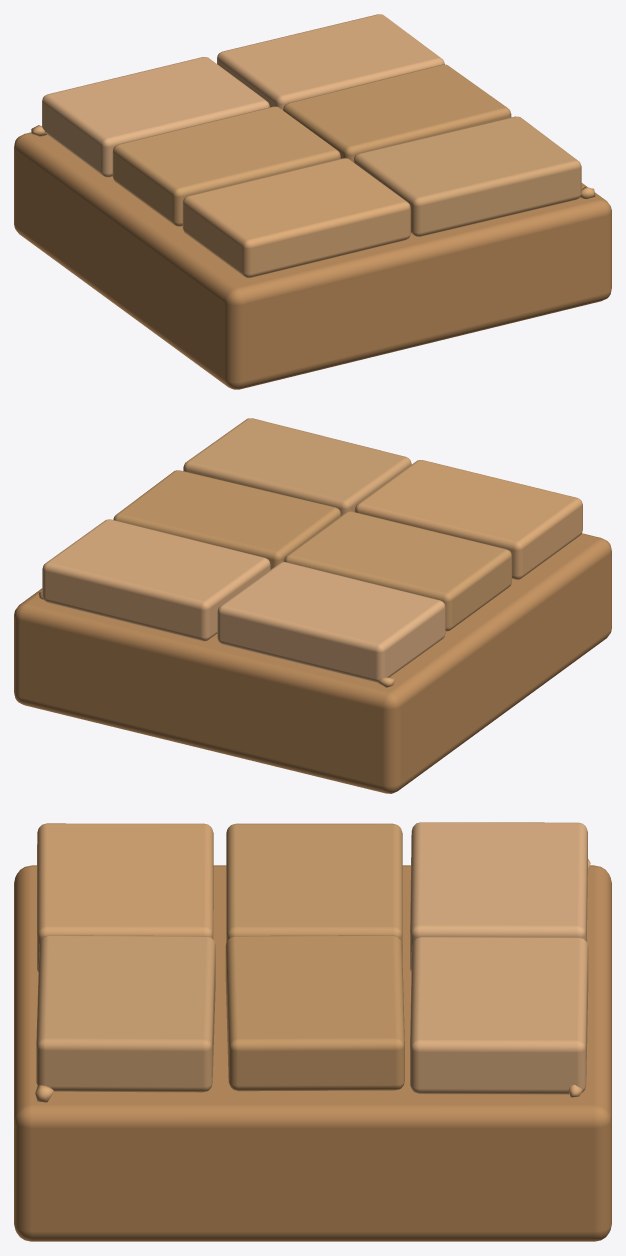
The model's file is sandstone_tile.glb.
3 views of the same model, one above another, from view 1: azimuth 30°, elevation 25°; view 2: azimuth 150°, elevation 25°; view 3: azimuth 270°, elevation 25° (orthographic). The views are drawn at different scales.
Visible parts, largest first — view 1: sandstone_tile; view 2: sandstone_tile; view 3: sandstone_tile.
Boxes of the visible parts, left/top/right/bottom form: sandstone_tile: left=14, top=14, right=611, bottom=389; sandstone_tile: left=14, top=418, right=611, bottom=793; sandstone_tile: left=14, top=822, right=611, bottom=1241.
Bounding box in the file's own units: 1 × 0.35 × 1.
